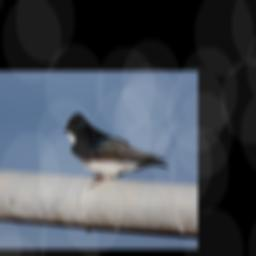Swallow: (63, 113, 169, 189)
